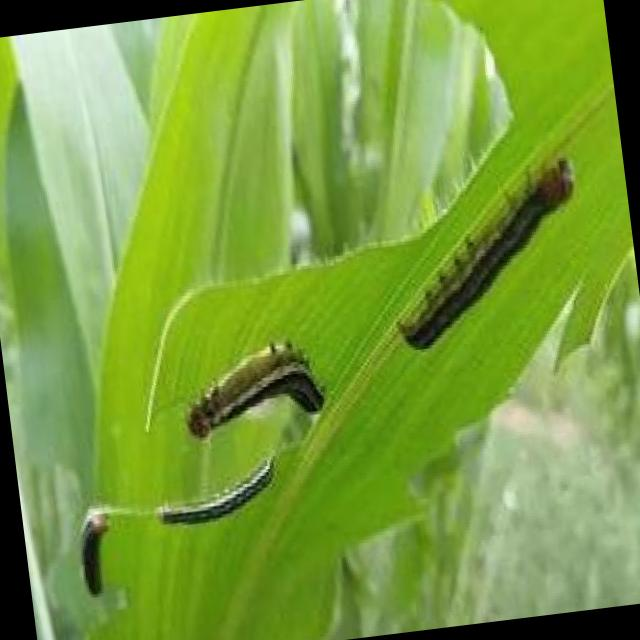pest: (387, 169, 588, 351), (174, 349, 330, 437), (150, 463, 294, 535), (73, 508, 122, 601)
